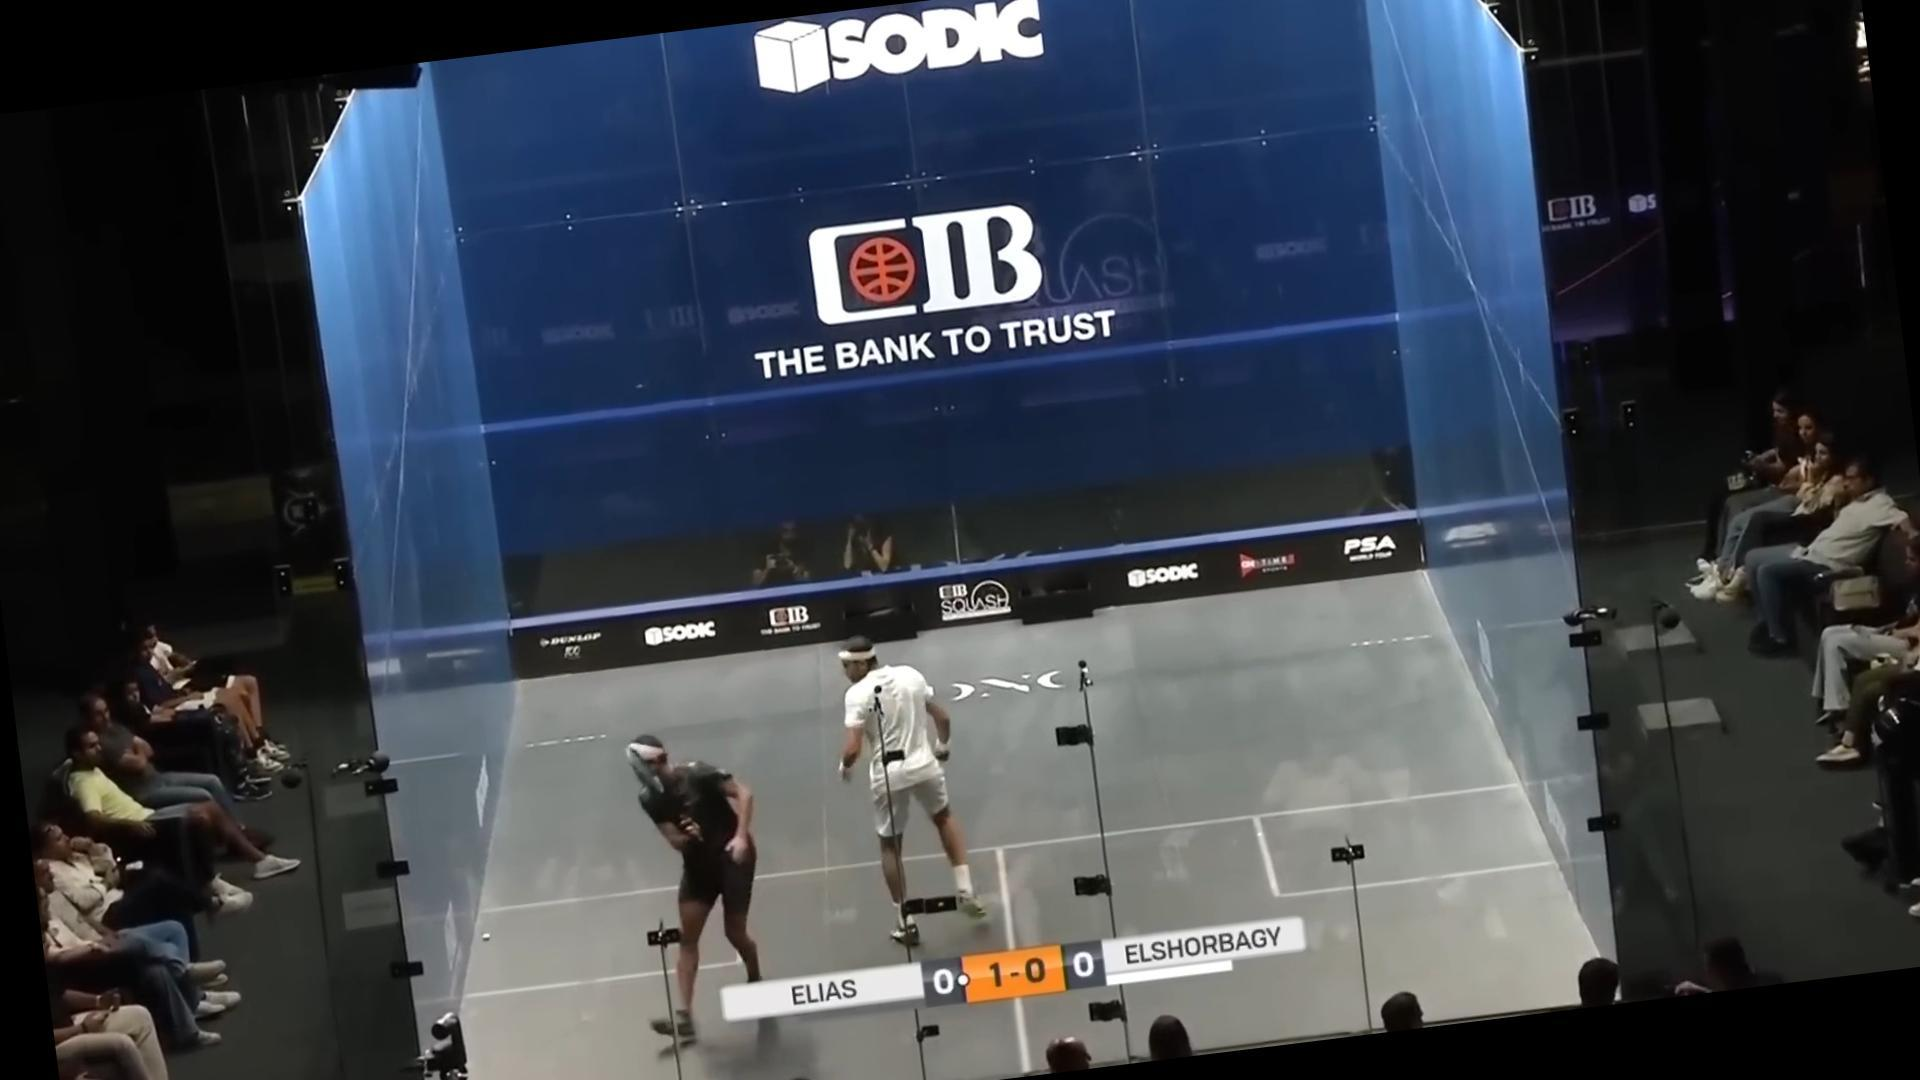Squash-Ball: (469, 919, 504, 952)
